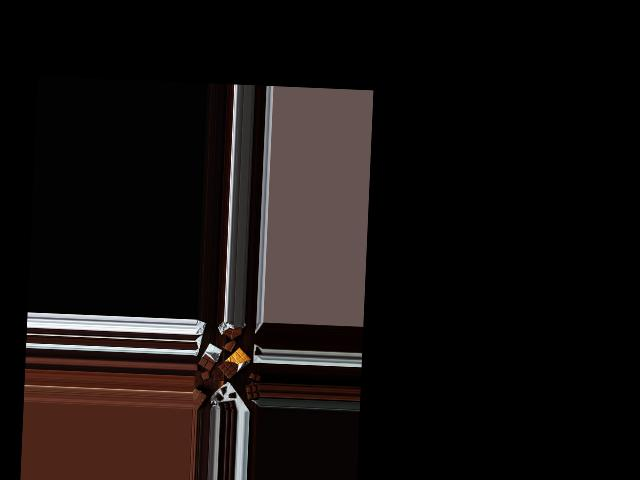chocolate: (195, 344, 223, 371)
